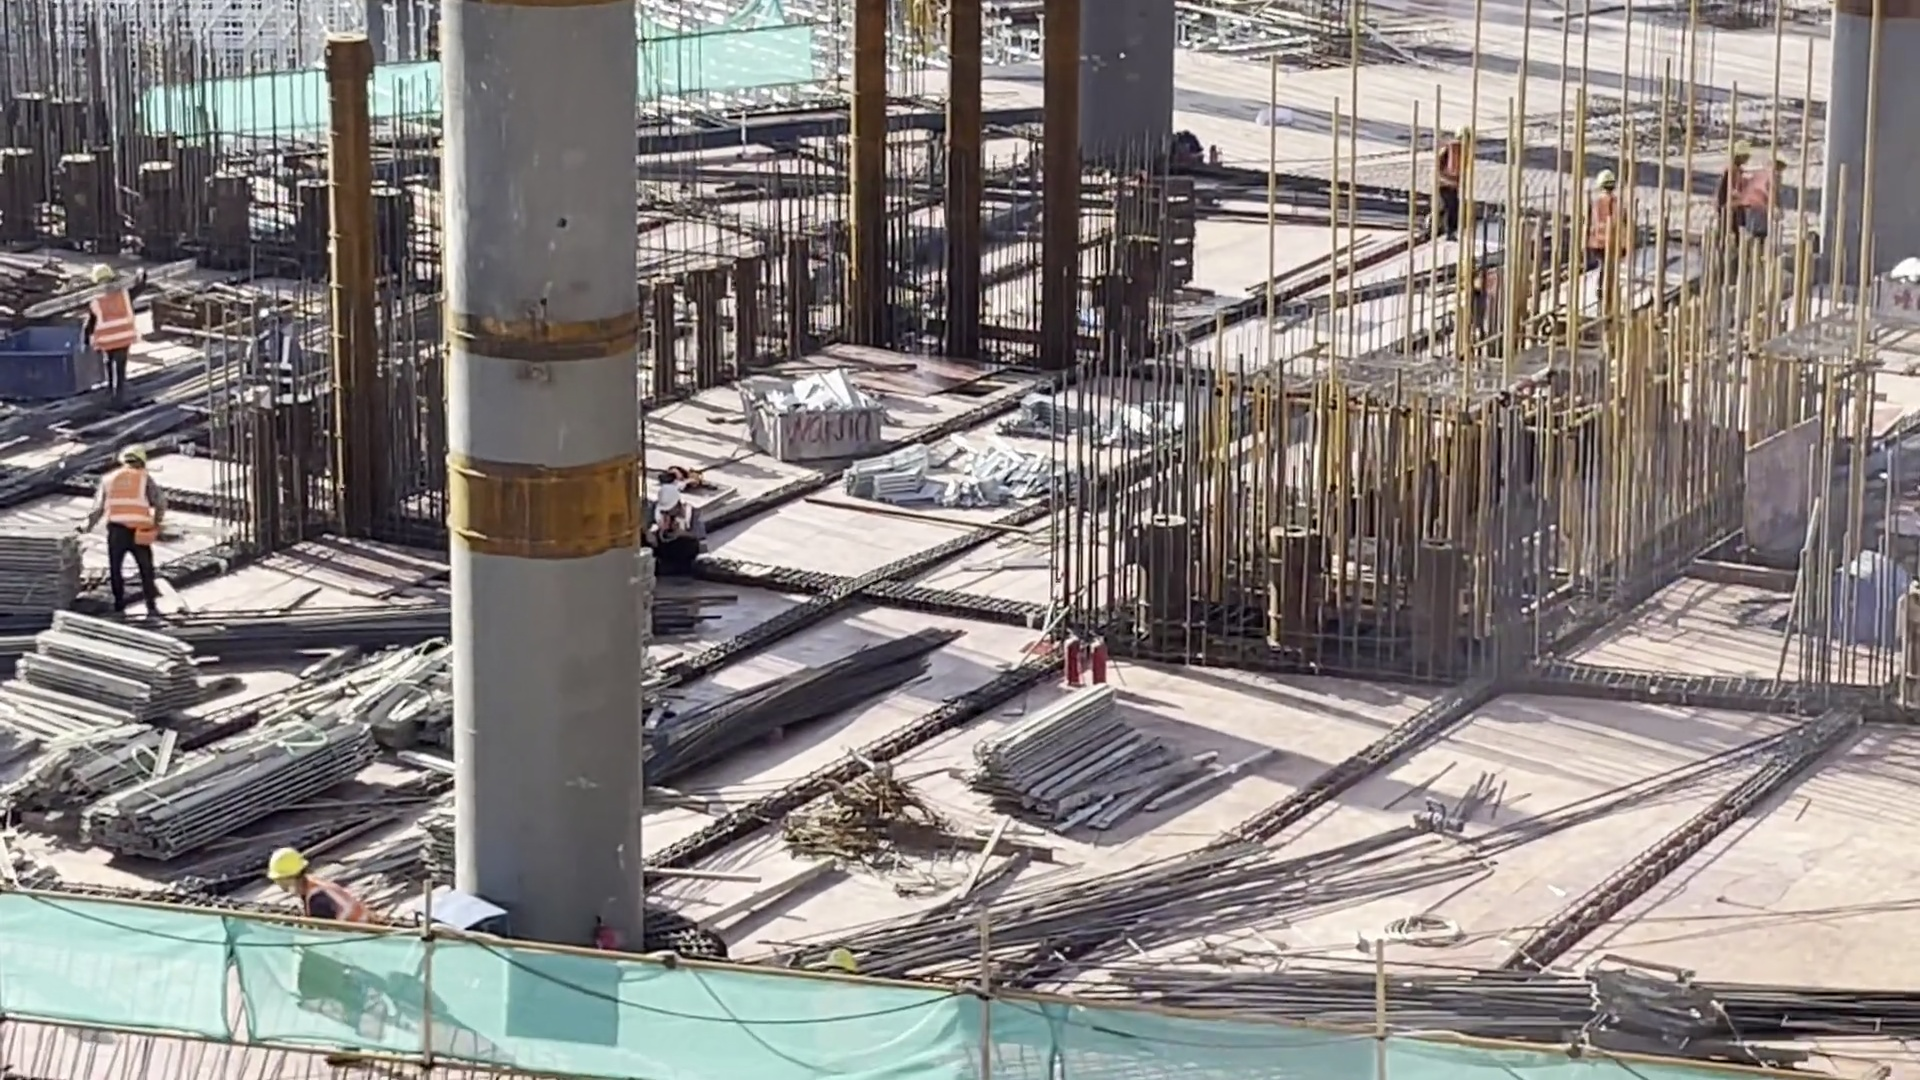helmet: (260, 843, 295, 891), (82, 243, 117, 287), (648, 479, 684, 512), (119, 442, 151, 469), (1596, 168, 1615, 195)
hopper: (734, 358, 882, 464), (1, 305, 114, 398)
person: (248, 827, 389, 952), (66, 253, 145, 409), (637, 457, 729, 587), (91, 434, 160, 602), (1567, 154, 1638, 272), (1743, 152, 1810, 253), (1430, 119, 1470, 241), (1718, 132, 1760, 227)
vest: (307, 867, 403, 948), (85, 286, 137, 363), (97, 467, 151, 530)
wood: (86, 713, 382, 845), (970, 679, 1189, 845), (30, 593, 199, 735), (1, 528, 84, 630)
